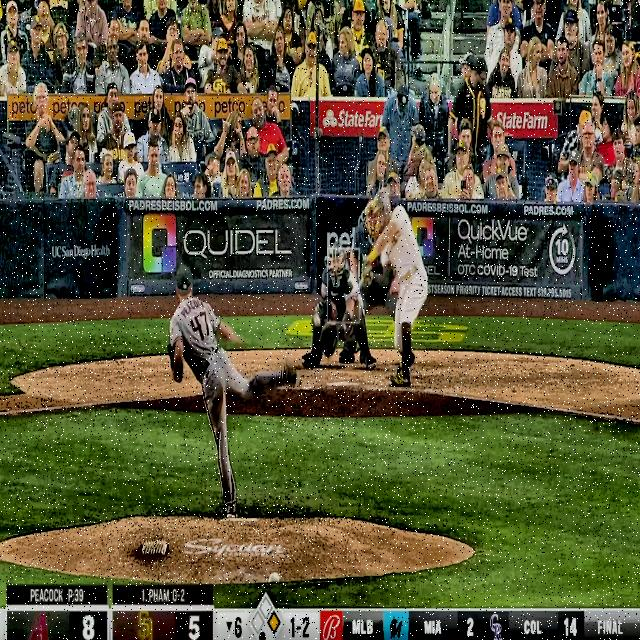baseball: (313, 312, 322, 328)
